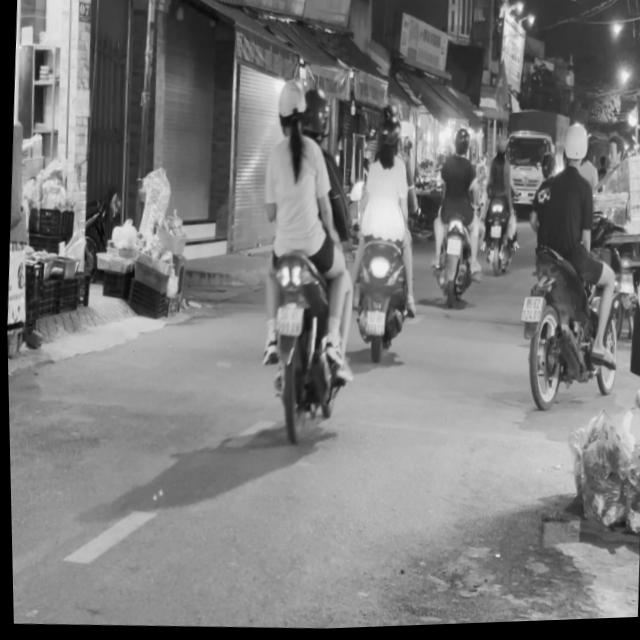helmet: (272, 79, 306, 138), (298, 88, 328, 142), (559, 123, 588, 170), (372, 118, 398, 164)
licenseplate: (244, 76, 364, 448), (509, 117, 628, 418), (340, 113, 425, 367)
nohelmet: (271, 305, 300, 336), (518, 298, 541, 325), (363, 311, 383, 337)
